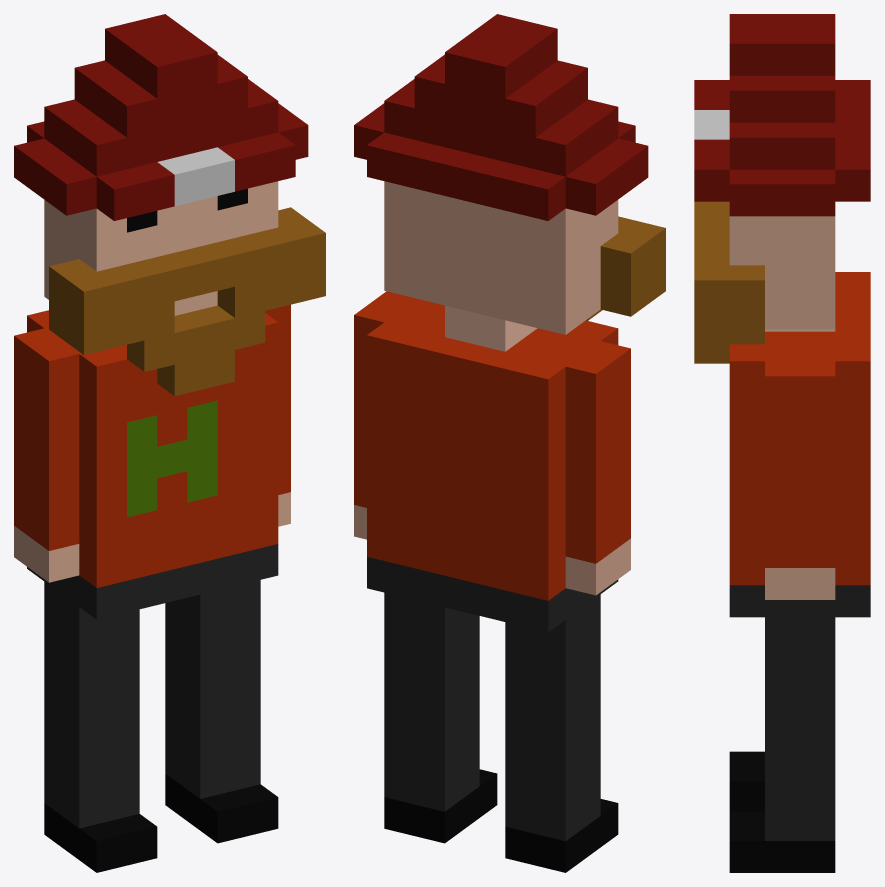
The model's file is haskell.obj.
3 renders of one model, left to right at view 1: azimuth 30°, elevation 25°; view 2: azimuth 150°, elevation 25°; view 3: azimuth 270°, elevation 25°, orthographic.
Size of the model in its own units: 8 by 25 by 5.
1 material, 1 textured.
